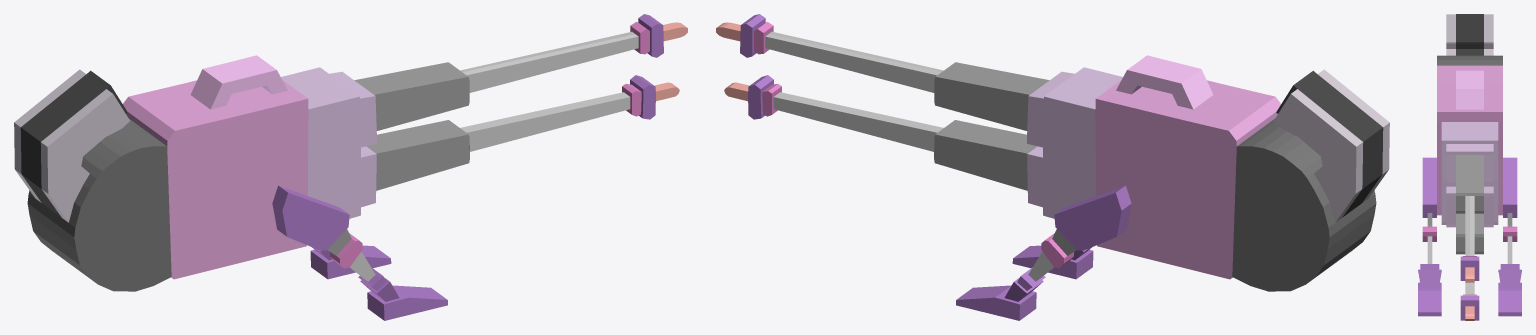
Rendered from LMGGun_SeamMarked.fbx.
3 views of the same model, side by side, from view 1: azimuth 30°, elevation 25°; view 2: azimuth 150°, elevation 25°; view 3: azimuth 270°, elevation 25° (orthographic). The views are drawn at different scales.
Parts seen in each view (by area): view 1: LMG_Gun; view 2: LMG_Gun; view 3: LMG_Gun.
Boxes of the visible parts, x1,y1,x2,y2 form: LMG_Gun: (14, 14, 687, 320); LMG_Gun: (716, 14, 1389, 320); LMG_Gun: (1418, 14, 1521, 320).
Size of the model in its own units: 5016 by 2027 by 976.
